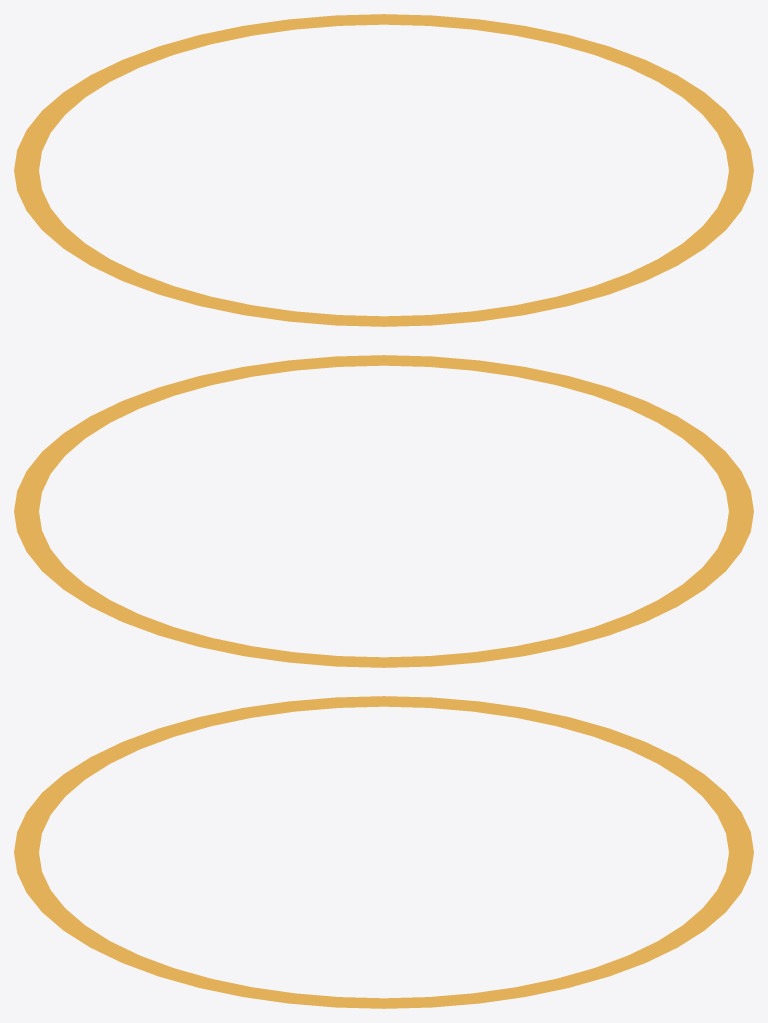
File: shockwave_ring.glb
3 renders of one model, top to bottom at view 1: azimuth 30°, elevation 25°; view 2: azimuth 150°, elevation 25°; view 3: azimuth 270°, elevation 25°, orthographic.
Parts seen in each view (by area): view 1: shockwave_ring; view 2: shockwave_ring; view 3: shockwave_ring.
Part boxes in pixels (x1=…): shockwave_ring: x1=14, y1=14, x2=753, y2=326; shockwave_ring: x1=14, y1=355, x2=753, y2=667; shockwave_ring: x1=14, y1=696, x2=753, y2=1008.
Bounding box in the file's own units: 2.07 × 0 × 2.07.
1 material, 1 textured.
